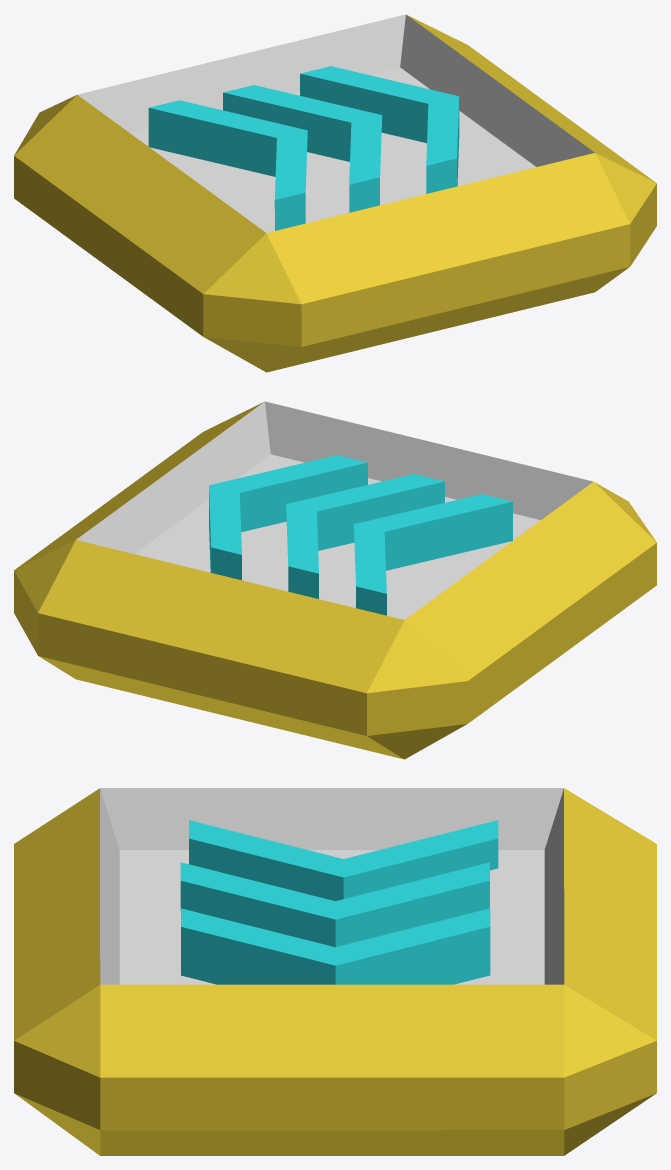
Rendered from aitem speedup.fbx.
The picture shows the model from 3 angles, top to bottom: view 1: azimuth 30°, elevation 25°; view 2: azimuth 150°, elevation 25°; view 3: azimuth 270°, elevation 25°; orthographic projection. The views are drawn at different scales.
Visible parts, largest first — view 1: Cube; view 2: Cube; view 3: Cube.
Part boxes in pixels (left/top/right/bottom): Cube: left=14, top=14, right=656, bottom=372; Cube: left=14, top=401, right=656, bottom=759; Cube: left=14, top=788, right=656, bottom=1155.
Size of the model in its own units: 200 by 58.75 by 200.
